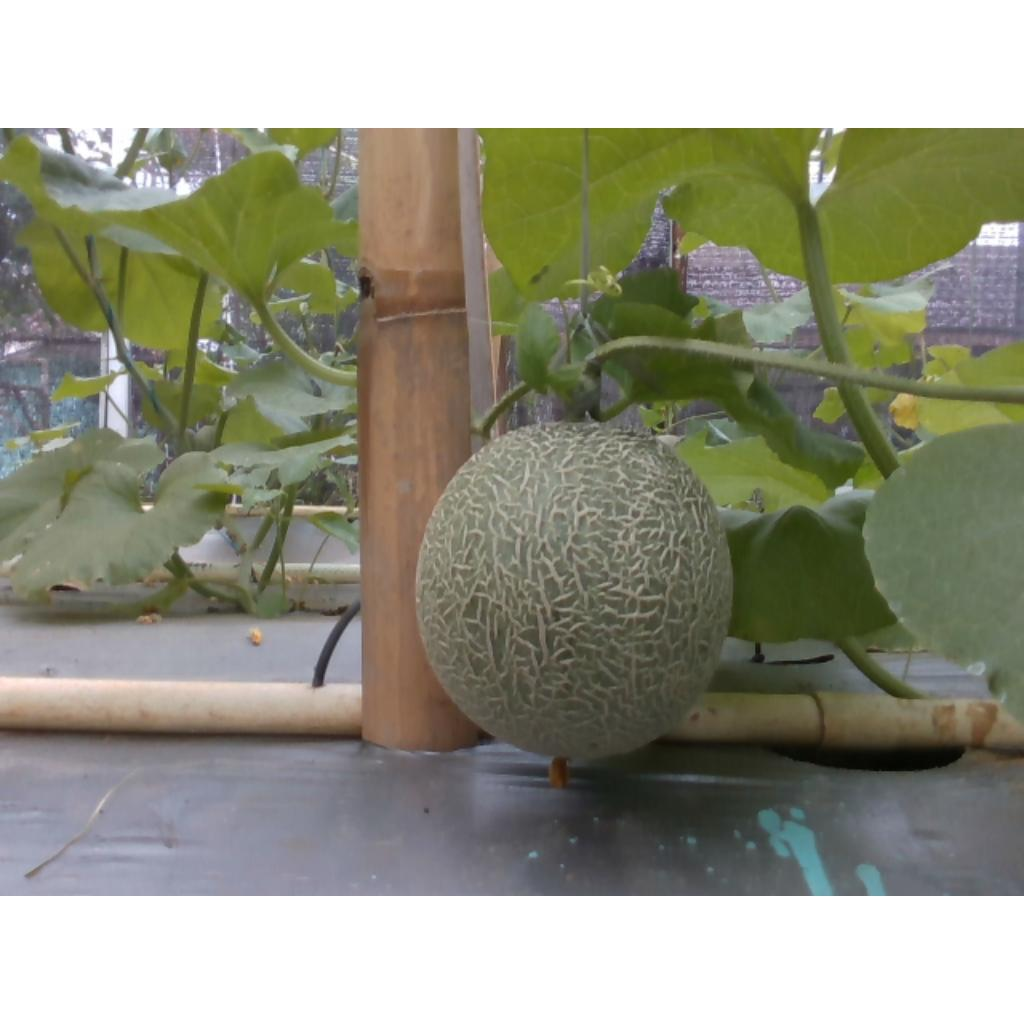melon: (418, 422, 733, 758)
